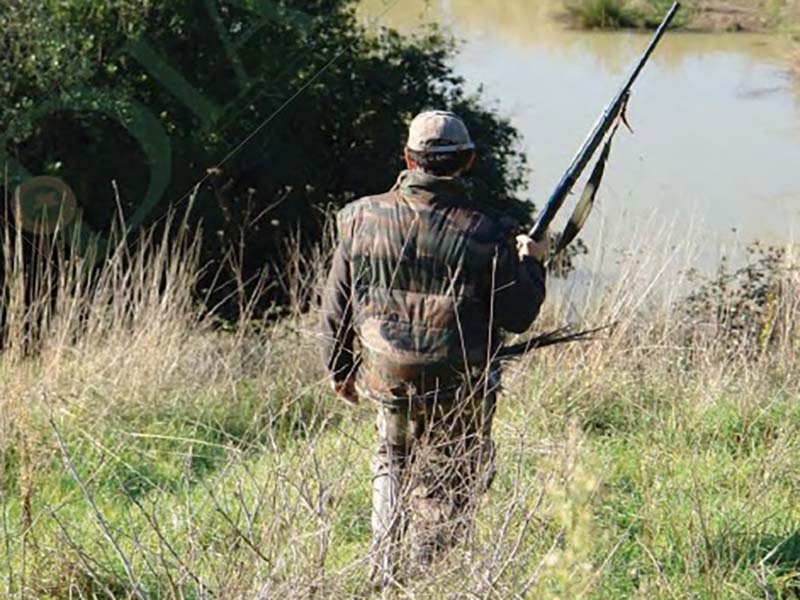cacciatore: (317, 4, 678, 570)
